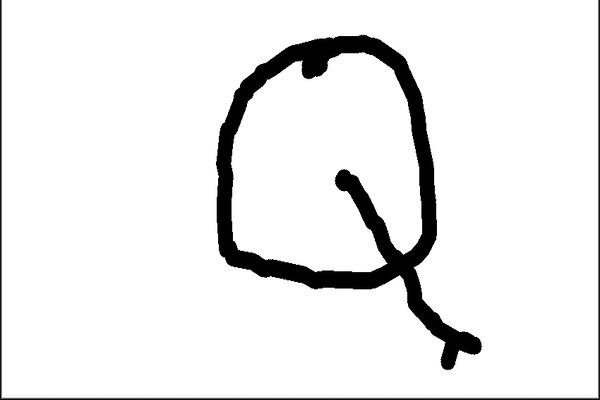Q: (192, 26, 490, 369)
